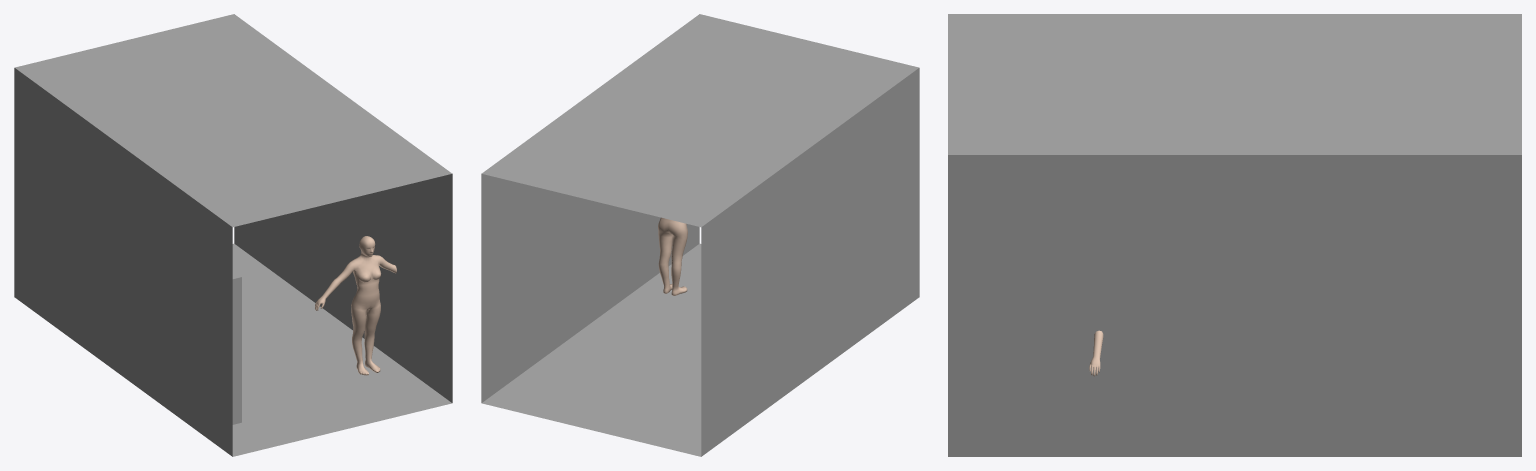
Rendered from YUKA_4.fbx.
3 views of the same model, side by side, from view 1: azimuth 30°, elevation 25°; view 2: azimuth 150°, elevation 25°; view 3: azimuth 270°, elevation 25° (orthographic). The views are drawn at different scales.
Visible parts, largest first — view 1: polySurface35, polySurface38, polySurface37, polySurface33, woman1, pCube95; view 2: polySurface35, polySurface38, polySurface37, polySurface33, woman1; view 3: polySurface37, polySurface38.
Part boxes in pixels (box(x1,y1,x2,y2)): polySurface35: box(14, 68, 232, 456); polySurface38: box(15, 14, 451, 227); polySurface37: box(234, 173, 452, 402); polySurface33: box(232, 243, 451, 456); woman1: box(315, 236, 396, 375); pCube95: box(232, 270, 241, 424); polySurface35: box(701, 68, 919, 456); polySurface38: box(482, 14, 918, 227); polySurface37: box(481, 173, 699, 402); polySurface33: box(482, 243, 701, 456); woman1: box(658, 217, 687, 295); polySurface37: box(948, 155, 1521, 456); polySurface38: box(948, 14, 1521, 154).
Bounding box in the file's own units: 329 × 300 × 516.
